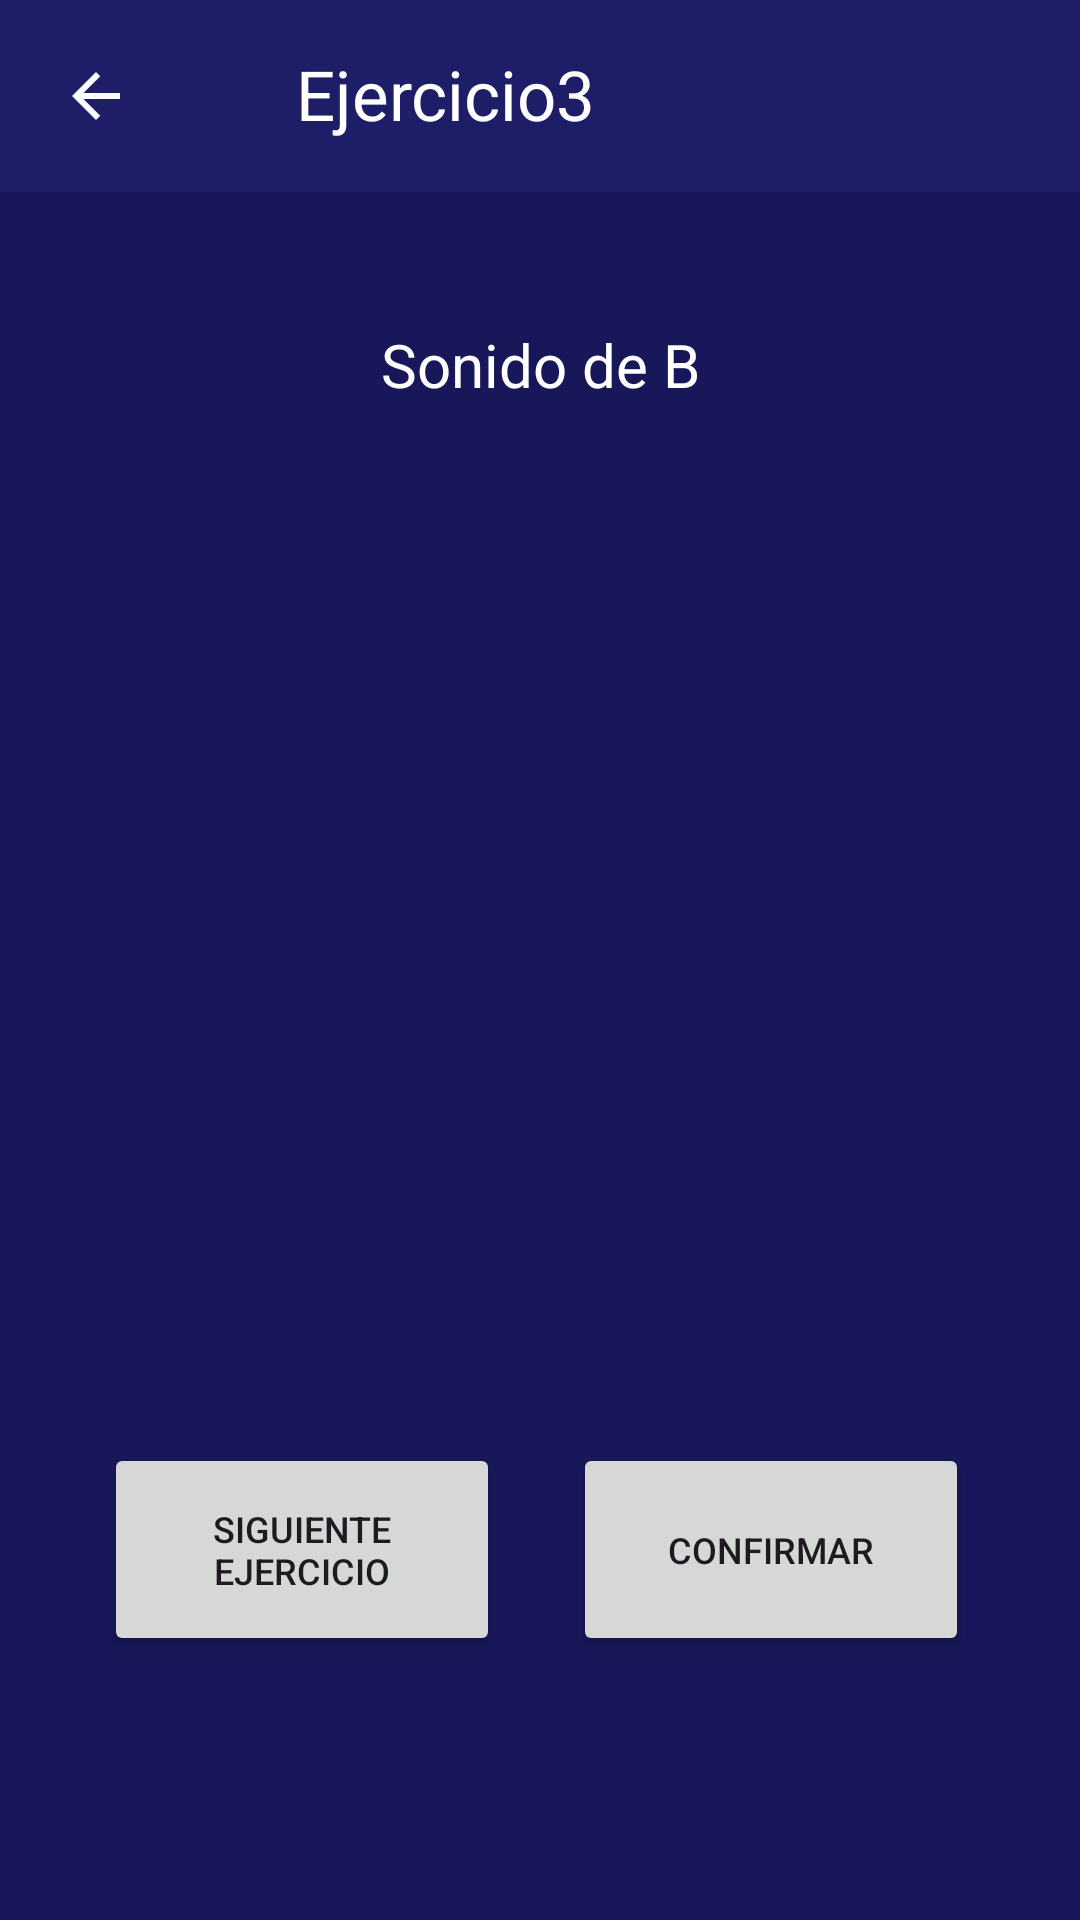

Icon click points for this 1080w x 1920h phone screenshot, format (x=x, y=y):
arrow back: (x=96, y=96)
